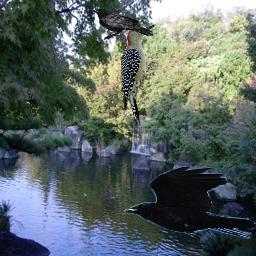Crow: (124, 166, 256, 239), (90, 8, 154, 40)
Woodpecker: (121, 22, 159, 129)
